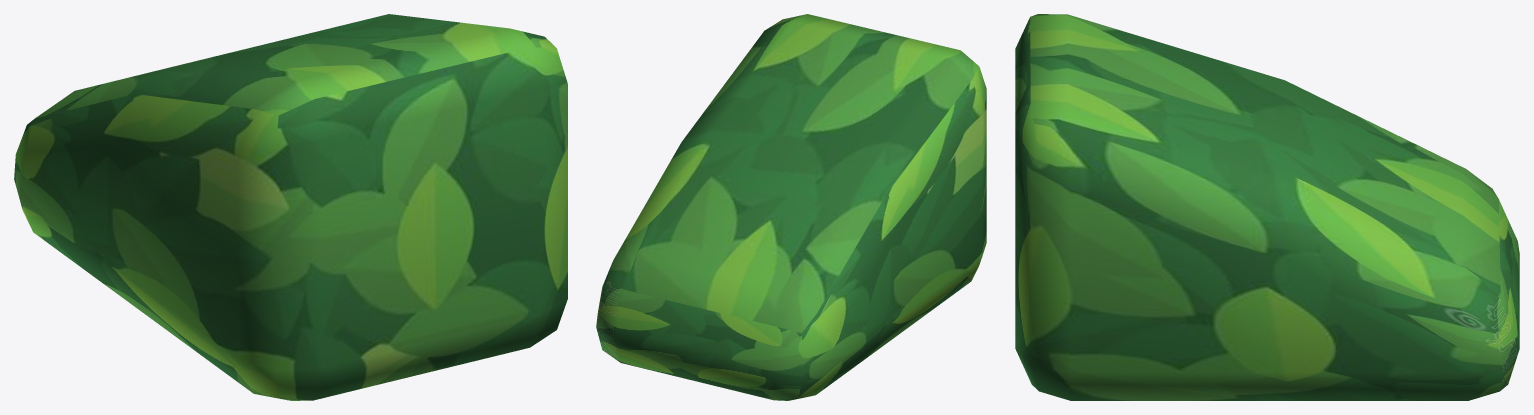
The model's file is BushWallSmall.fbx.
3 renders of one model, left to right at view 1: azimuth 30°, elevation 25°; view 2: azimuth 150°, elevation 25°; view 3: azimuth 270°, elevation 25°, orthographic. The views are drawn at different scales.
Visible parts, largest first — view 1: Cube; view 2: Cube; view 3: Cube.
Part boxes in pixels (<box>): Cube: <box>14,14,567,400</box>; Cube: <box>596,14,986,400</box>; Cube: <box>1015,14,1519,400</box>.
Bounding box in the file's own units: 2 × 2.99 × 1.89.
